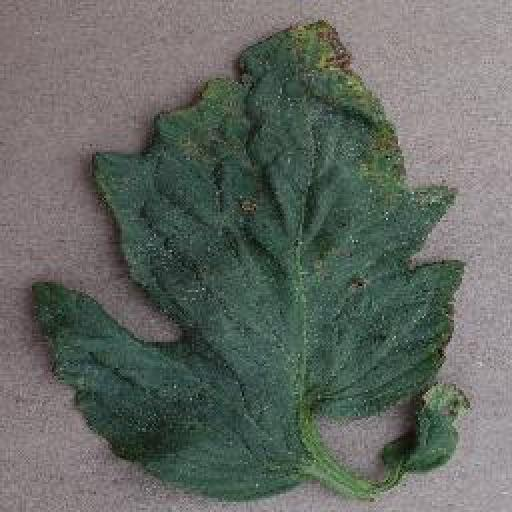Bacterial Spot: (27, 13, 472, 504)
